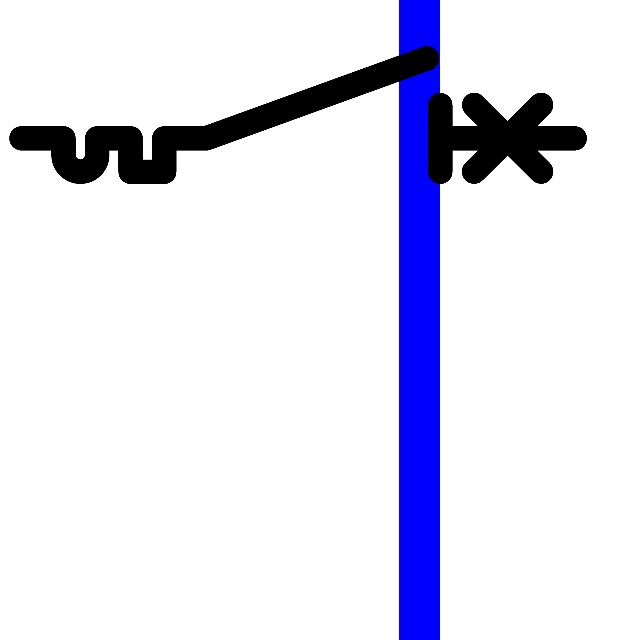interruptor_termomagnetico: (7, 44, 589, 186)
